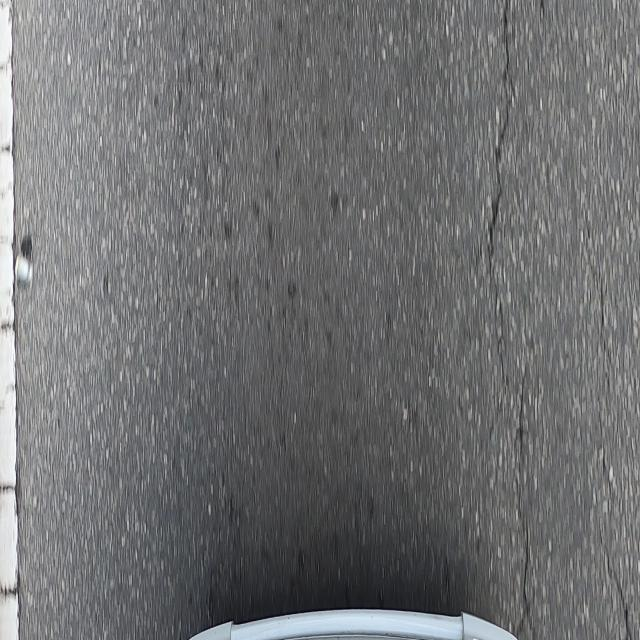Retak-Memanjang: (596, 272, 631, 638), (486, 3, 509, 390), (512, 365, 531, 629)
